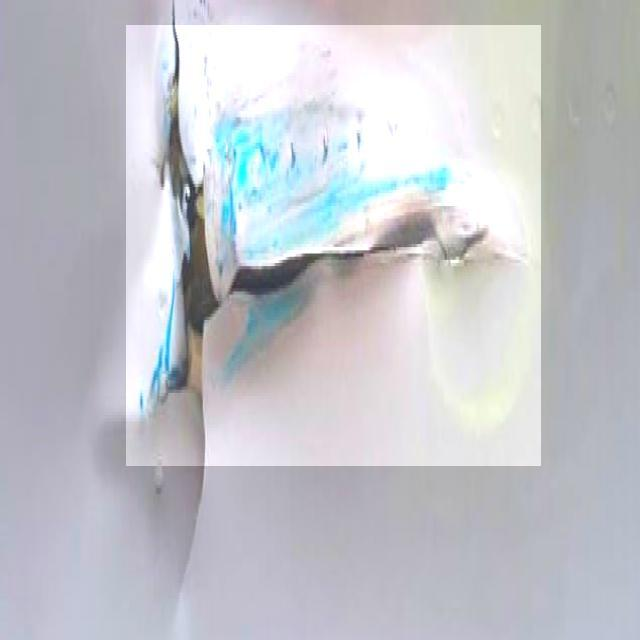crack: (127, 26, 542, 467)
